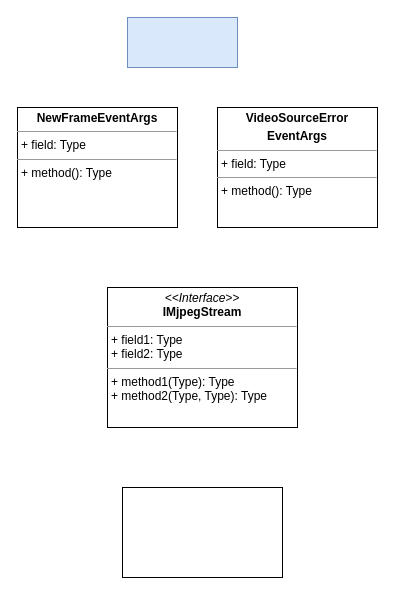
The diagram is 395 pixels wide and 595 high, and some of its shapes have lost their labels. Each missing label, with the centre of its shape:
"EventArgs" belongs at pixel 182 42.
"MjpegStream + field: Type + method(): Type" belongs at pixel 202 532.
